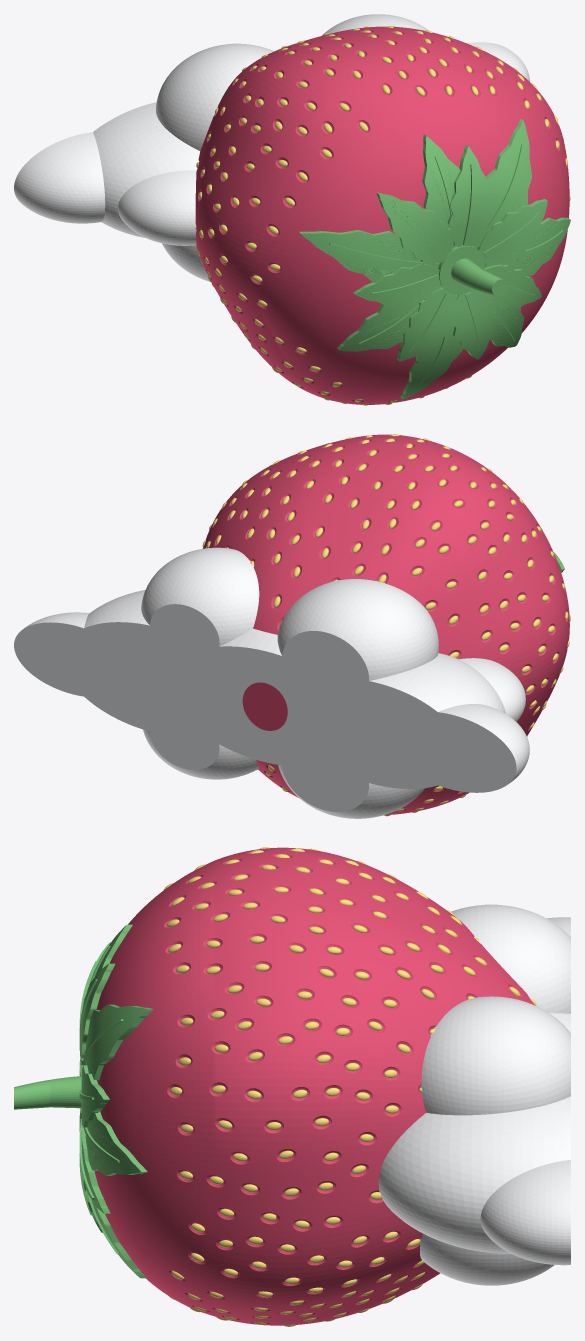
File: halves.glb
The picture shows the model from 3 angles, top to bottom: view 1: azimuth 30°, elevation 25°; view 2: azimuth 150°, elevation 25°; view 3: azimuth 270°, elevation 25°; orthographic projection. The views are drawn at different scales.
Visible parts, largest first — view 1: strawberry-body-top, strawberry-leaves-top, cloud-back, strawberry-body-bottom, cloud-front, strawberry-seeds-top, strawberry-seeds-bottom; view 2: cloud-back, strawberry-body-bottom, cloud-front, strawberry-body-top, strawberry-seeds-bottom, strawberry-seeds-top; view 3: strawberry-body-top, strawberry-body-bottom, cloud-back, strawberry-leaves-top, cloud-front, strawberry-seeds-bottom, strawberry-seeds-top.
Part boxes in pixels (x1,y1,x2,y2): strawberry-body-top: (216,41,569,404); strawberry-leaves-top: (299,119,570,399); cloud-back: (14,14,529,229); strawberry-body-bottom: (195,26,510,368); cloud-front: (14,188,209,281); strawberry-seeds-top: (219,40,570,405); strawberry-seeds-bottom: (195,26,518,372); cloud-back: (14,547,529,767); strawberry-body-bottom: (202,448,550,814); cloud-front: (14,645,529,818); strawberry-body-top: (262,434,569,735); strawberry-seeds-bottom: (202,447,547,816); strawberry-seeds-top: (270,434,570,736); strawberry-body-top: (94,848,276,1325); strawberry-body-bottom: (276,847,534,1325); cloud-back: (378,904,570,1245); strawberry-leaves-top: (14,924,153,1278); cloud-front: (378,1182,570,1285); strawberry-seeds-bottom: (276,848,536,1326); strawberry-seeds-top: (164,847,276,1324).
Size of the model in its own units: 290 by 191 by 223.
